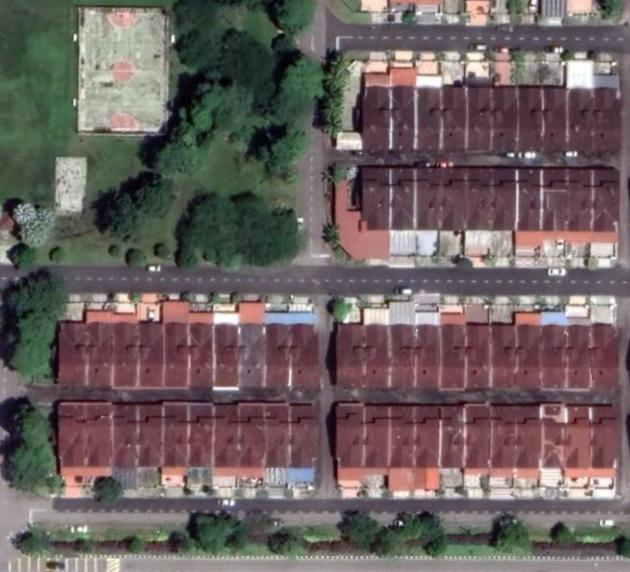building: (53, 317, 92, 390), (332, 321, 370, 391), (359, 82, 396, 153), (283, 401, 321, 470), (358, 163, 396, 232), (334, 400, 369, 469), (292, 321, 323, 394), (594, 319, 623, 393), (493, 319, 522, 392), (267, 320, 296, 392), (232, 401, 262, 470), (191, 320, 219, 393), (543, 322, 572, 392), (132, 400, 160, 471), (518, 321, 546, 392), (445, 162, 473, 233), (471, 80, 497, 156), (569, 399, 596, 472), (520, 82, 547, 155), (243, 321, 270, 393), (367, 399, 394, 471), (418, 400, 445, 472), (545, 162, 572, 234), (597, 85, 624, 157), (116, 318, 142, 392), (443, 399, 469, 473), (470, 319, 496, 393), (142, 319, 168, 392), (393, 321, 420, 391), (418, 322, 445, 392), (419, 163, 446, 233), (217, 319, 242, 394), (158, 399, 184, 471), (167, 319, 192, 393), (81, 399, 107, 470), (595, 401, 621, 472), (92, 318, 117, 391), (469, 398, 494, 471), (497, 82, 522, 155), (183, 401, 209, 471), (209, 400, 234, 472), (572, 163, 597, 235), (422, 83, 448, 152), (544, 398, 568, 472), (370, 321, 395, 392), (447, 82, 472, 153), (108, 398, 132, 471), (572, 320, 596, 393), (260, 401, 285, 471), (56, 398, 81, 468), (395, 163, 420, 233), (394, 399, 418, 471), (497, 162, 521, 234), (495, 401, 519, 472), (520, 401, 544, 472), (445, 321, 469, 392), (472, 162, 496, 232), (522, 163, 545, 235), (598, 164, 622, 233), (574, 86, 597, 157), (398, 81, 420, 155), (549, 82, 571, 156)
